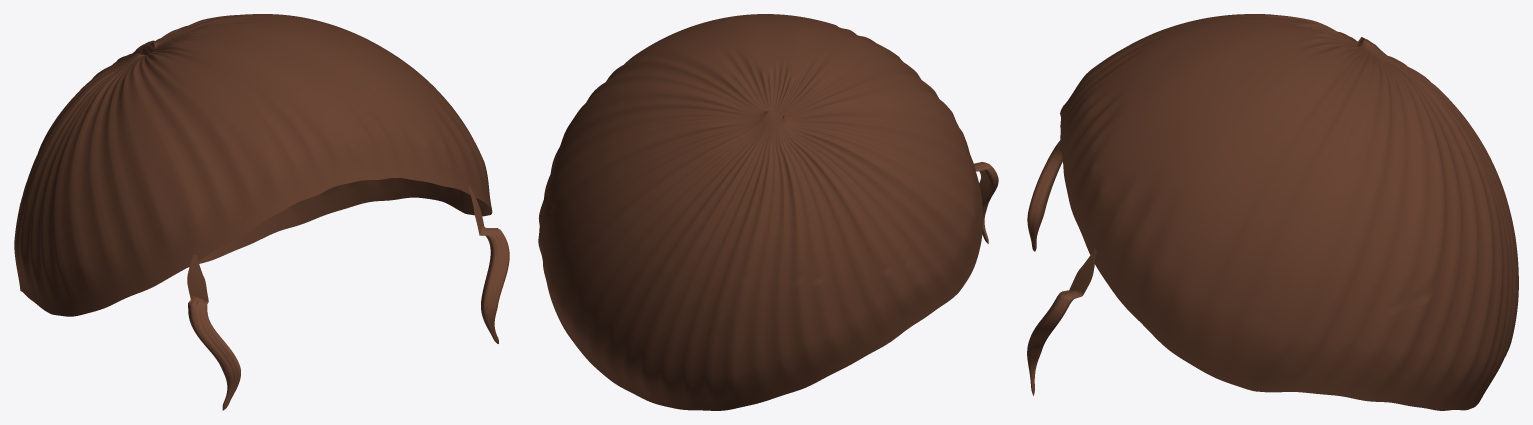
The model's file is ponytail-cuff-default.glb.
3 views of the same model, side by side, from view 1: azimuth 30°, elevation 25°; view 2: azimuth 150°, elevation 25°; view 3: azimuth 270°, elevation 25° (orthographic). The views are drawn at different scales.
Visible parts, largest first — view 1: 226 hair / Hair / crisp pulled roots220.002, 226 hair / Hair / sculpted front locks222.002; view 2: 226 hair / Hair / crisp pulled roots220.002, 226 hair / Hair / sculpted front locks222.002; view 3: 226 hair / Hair / crisp pulled roots220.002, 226 hair / Hair / sculpted front locks222.002.
Boxes of the visible parts, x1,y1,x2,y2 form: 226 hair / Hair / crisp pulled roots220.002: (14,14,492,316); 226 hair / Hair / sculpted front locks222.002: (187,187,509,410); 226 hair / Hair / crisp pulled roots220.002: (538,14,982,410); 226 hair / Hair / sculpted front locks222.002: (970,156,998,243); 226 hair / Hair / crisp pulled roots220.002: (1060,14,1518,410); 226 hair / Hair / sculpted front locks222.002: (1027,141,1096,395).
Size of the model in its own units: 0.7726 by 0.5697 by 0.7343.
